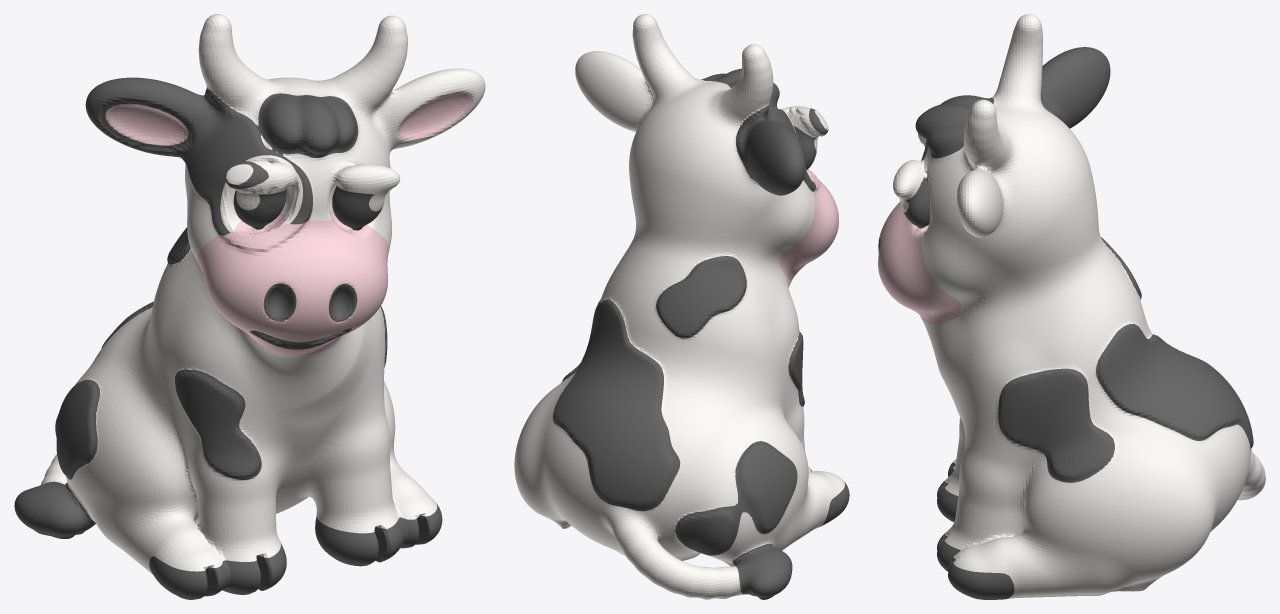
Rendered from CRW-003-mini-cow-classic.glb.
3 renders of one model, left to right at view 1: azimuth 30°, elevation 25°; view 2: azimuth 150°, elevation 25°; view 3: azimuth 270°, elevation 25°, orthographic. The views are drawn at different scales.
Parts seen in each view (by area): view 1: T1 tool_1 [PLA Cow White] - eye highlights, eyelids, eye rin, T2 tool_2 [PLA Cow Black] - pupils, nostrils, smile, tail tu, T3 tool_3 [PLA Cow Pink] - inner ears, muzzle; view 2: T1 tool_1 [PLA Cow White] - eye highlights, eyelids, eye rin, T2 tool_2 [PLA Cow Black] - pupils, nostrils, smile, tail tu, T3 tool_3 [PLA Cow Pink] - inner ears, muzzle; view 3: T1 tool_1 [PLA Cow White] - eye highlights, eyelids, eye rin, T2 tool_2 [PLA Cow Black] - pupils, nostrils, smile, tail tu, T3 tool_3 [PLA Cow Pink] - inner ears, muzzle.
Boxes of the visible parts, bbox=[...] form: T1 tool_1 [PLA Cow White] - eye highlights, eyelids, eye rin: bbox=[41, 14, 485, 574]; T2 tool_2 [PLA Cow Black] - pupils, nostrils, smile, tail tu: bbox=[14, 77, 442, 599]; T3 tool_3 [PLA Cow Pink] - inner ears, muzzle: bbox=[105, 91, 473, 356]; T1 tool_1 [PLA Cow White] - eye highlights, eyelids, eye rin: bbox=[514, 14, 844, 599]; T2 tool_2 [PLA Cow Black] - pupils, nostrils, smile, tail tu: bbox=[553, 68, 849, 599]; T3 tool_3 [PLA Cow Pink] - inner ears, muzzle: bbox=[779, 169, 838, 279]; T1 tool_1 [PLA Cow White] - eye highlights, eyelids, eye rin: bbox=[893, 14, 1265, 598]; T2 tool_2 [PLA Cow Black] - pupils, nostrils, smile, tail tu: bbox=[878, 47, 1253, 599]; T3 tool_3 [PLA Cow Pink] - inner ears, muzzle: bbox=[878, 202, 961, 324].
Size of the model in its own units: 0.0412 by 0.0614 by 0.0428.
